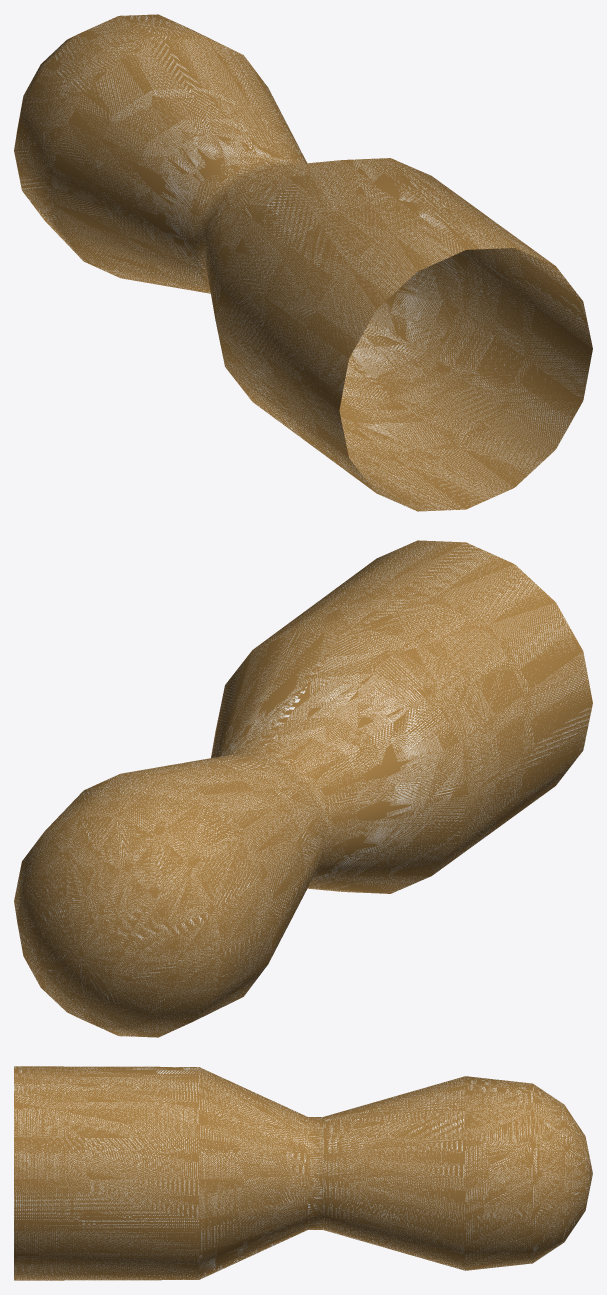
The model's file is original-8.obj.
3 renders of one model, top to bottom at view 1: azimuth 30°, elevation 25°; view 2: azimuth 150°, elevation 25°; view 3: azimuth 270°, elevation 25°, orthographic. The views are drawn at different scales.
Visible parts, largest first — view 1: mesh6/mesh6-geometry#mesh6-geometry; view 2: mesh6/mesh6-geometry#mesh6-geometry; view 3: mesh6/mesh6-geometry#mesh6-geometry.
Part boxes in pixels (bbox=[...]): mesh6/mesh6-geometry#mesh6-geometry: bbox=[14, 14, 592, 511]; mesh6/mesh6-geometry#mesh6-geometry: bbox=[14, 540, 592, 1037]; mesh6/mesh6-geometry#mesh6-geometry: bbox=[14, 1066, 592, 1280].
Bounding box in the file's own units: 0.0312 × 0.0305 × 0.0827.
